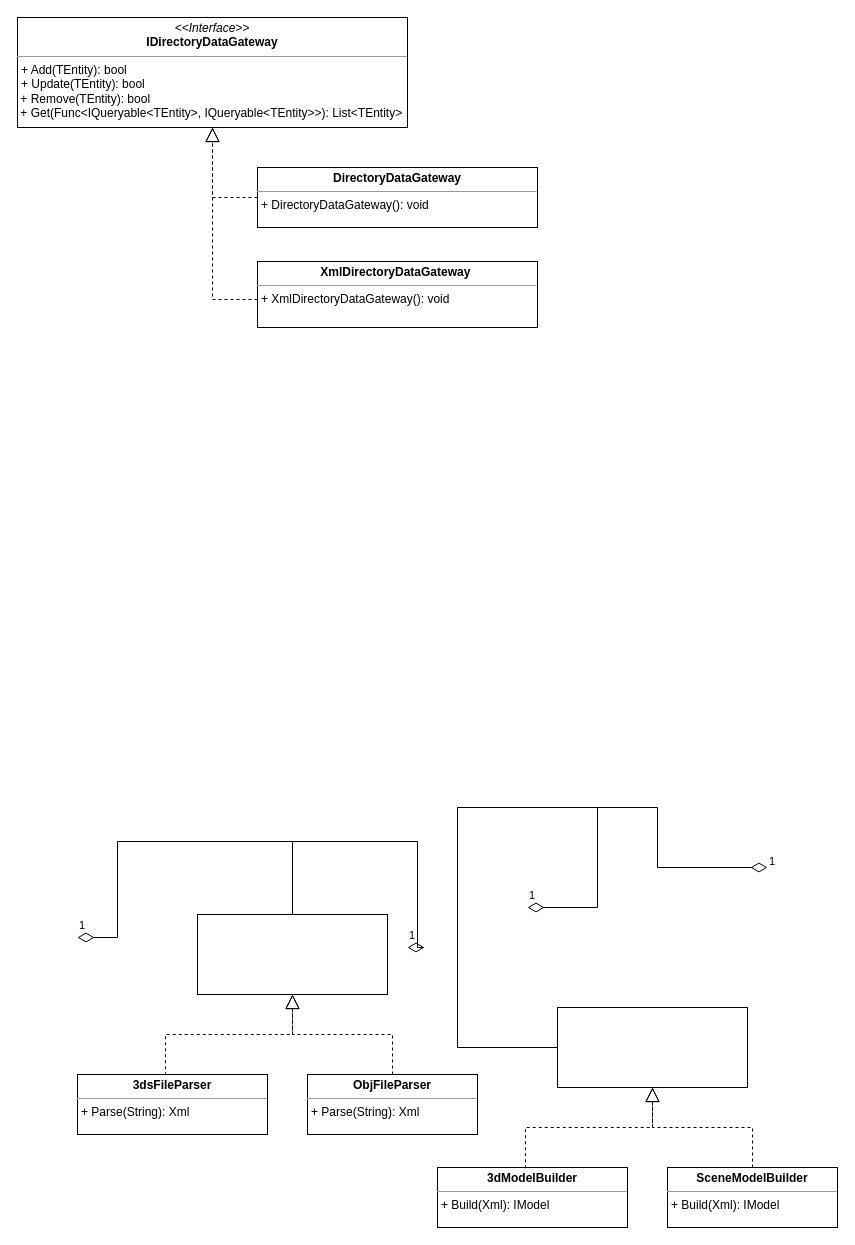
Some shapes in this 855 by 1245 pixel diagram are drawn without their labels. Each missing label, with the centre of its shape:
<<Interface>> IFileParser + Parse(String): Xml: point 292,954
<<Interface>> IModelBuilder + Build(Xml): IModel: point 652,1047
